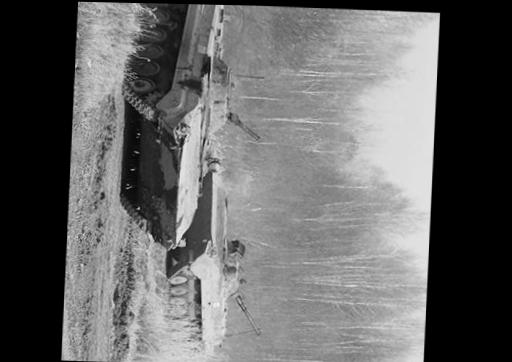tank: (114, 3, 268, 254), (163, 138, 272, 357)
